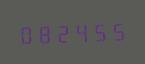eight: (35, 21, 52, 44)
five: (108, 18, 125, 42), (90, 19, 107, 42)
four: (72, 20, 89, 43)
two: (54, 20, 71, 44)
zero: (17, 21, 34, 45)
